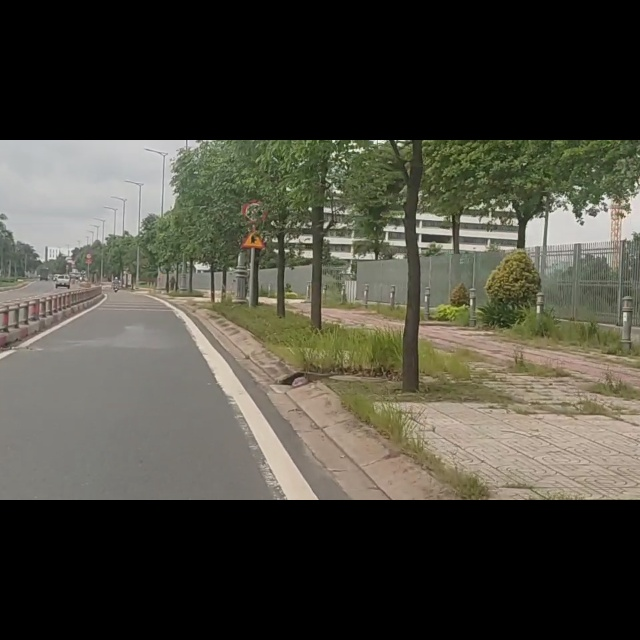bien_nguy_hiem: (239, 158, 267, 192)
